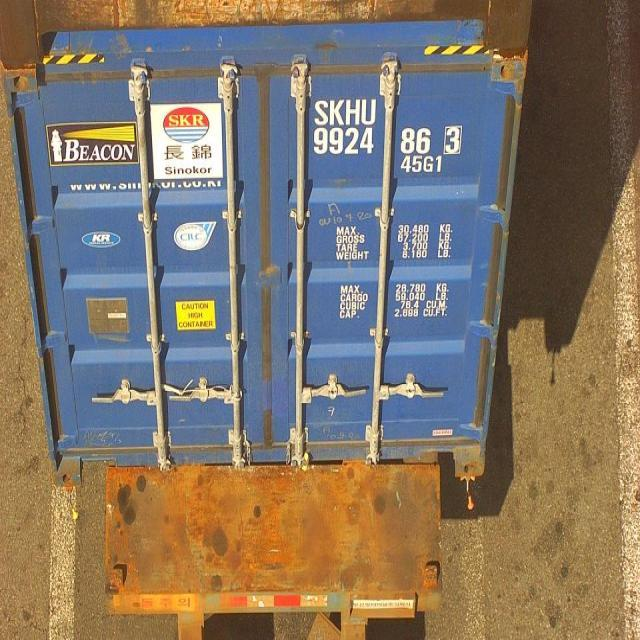ISO: (402, 154, 444, 173)
container_number: (311, 94, 464, 156)
